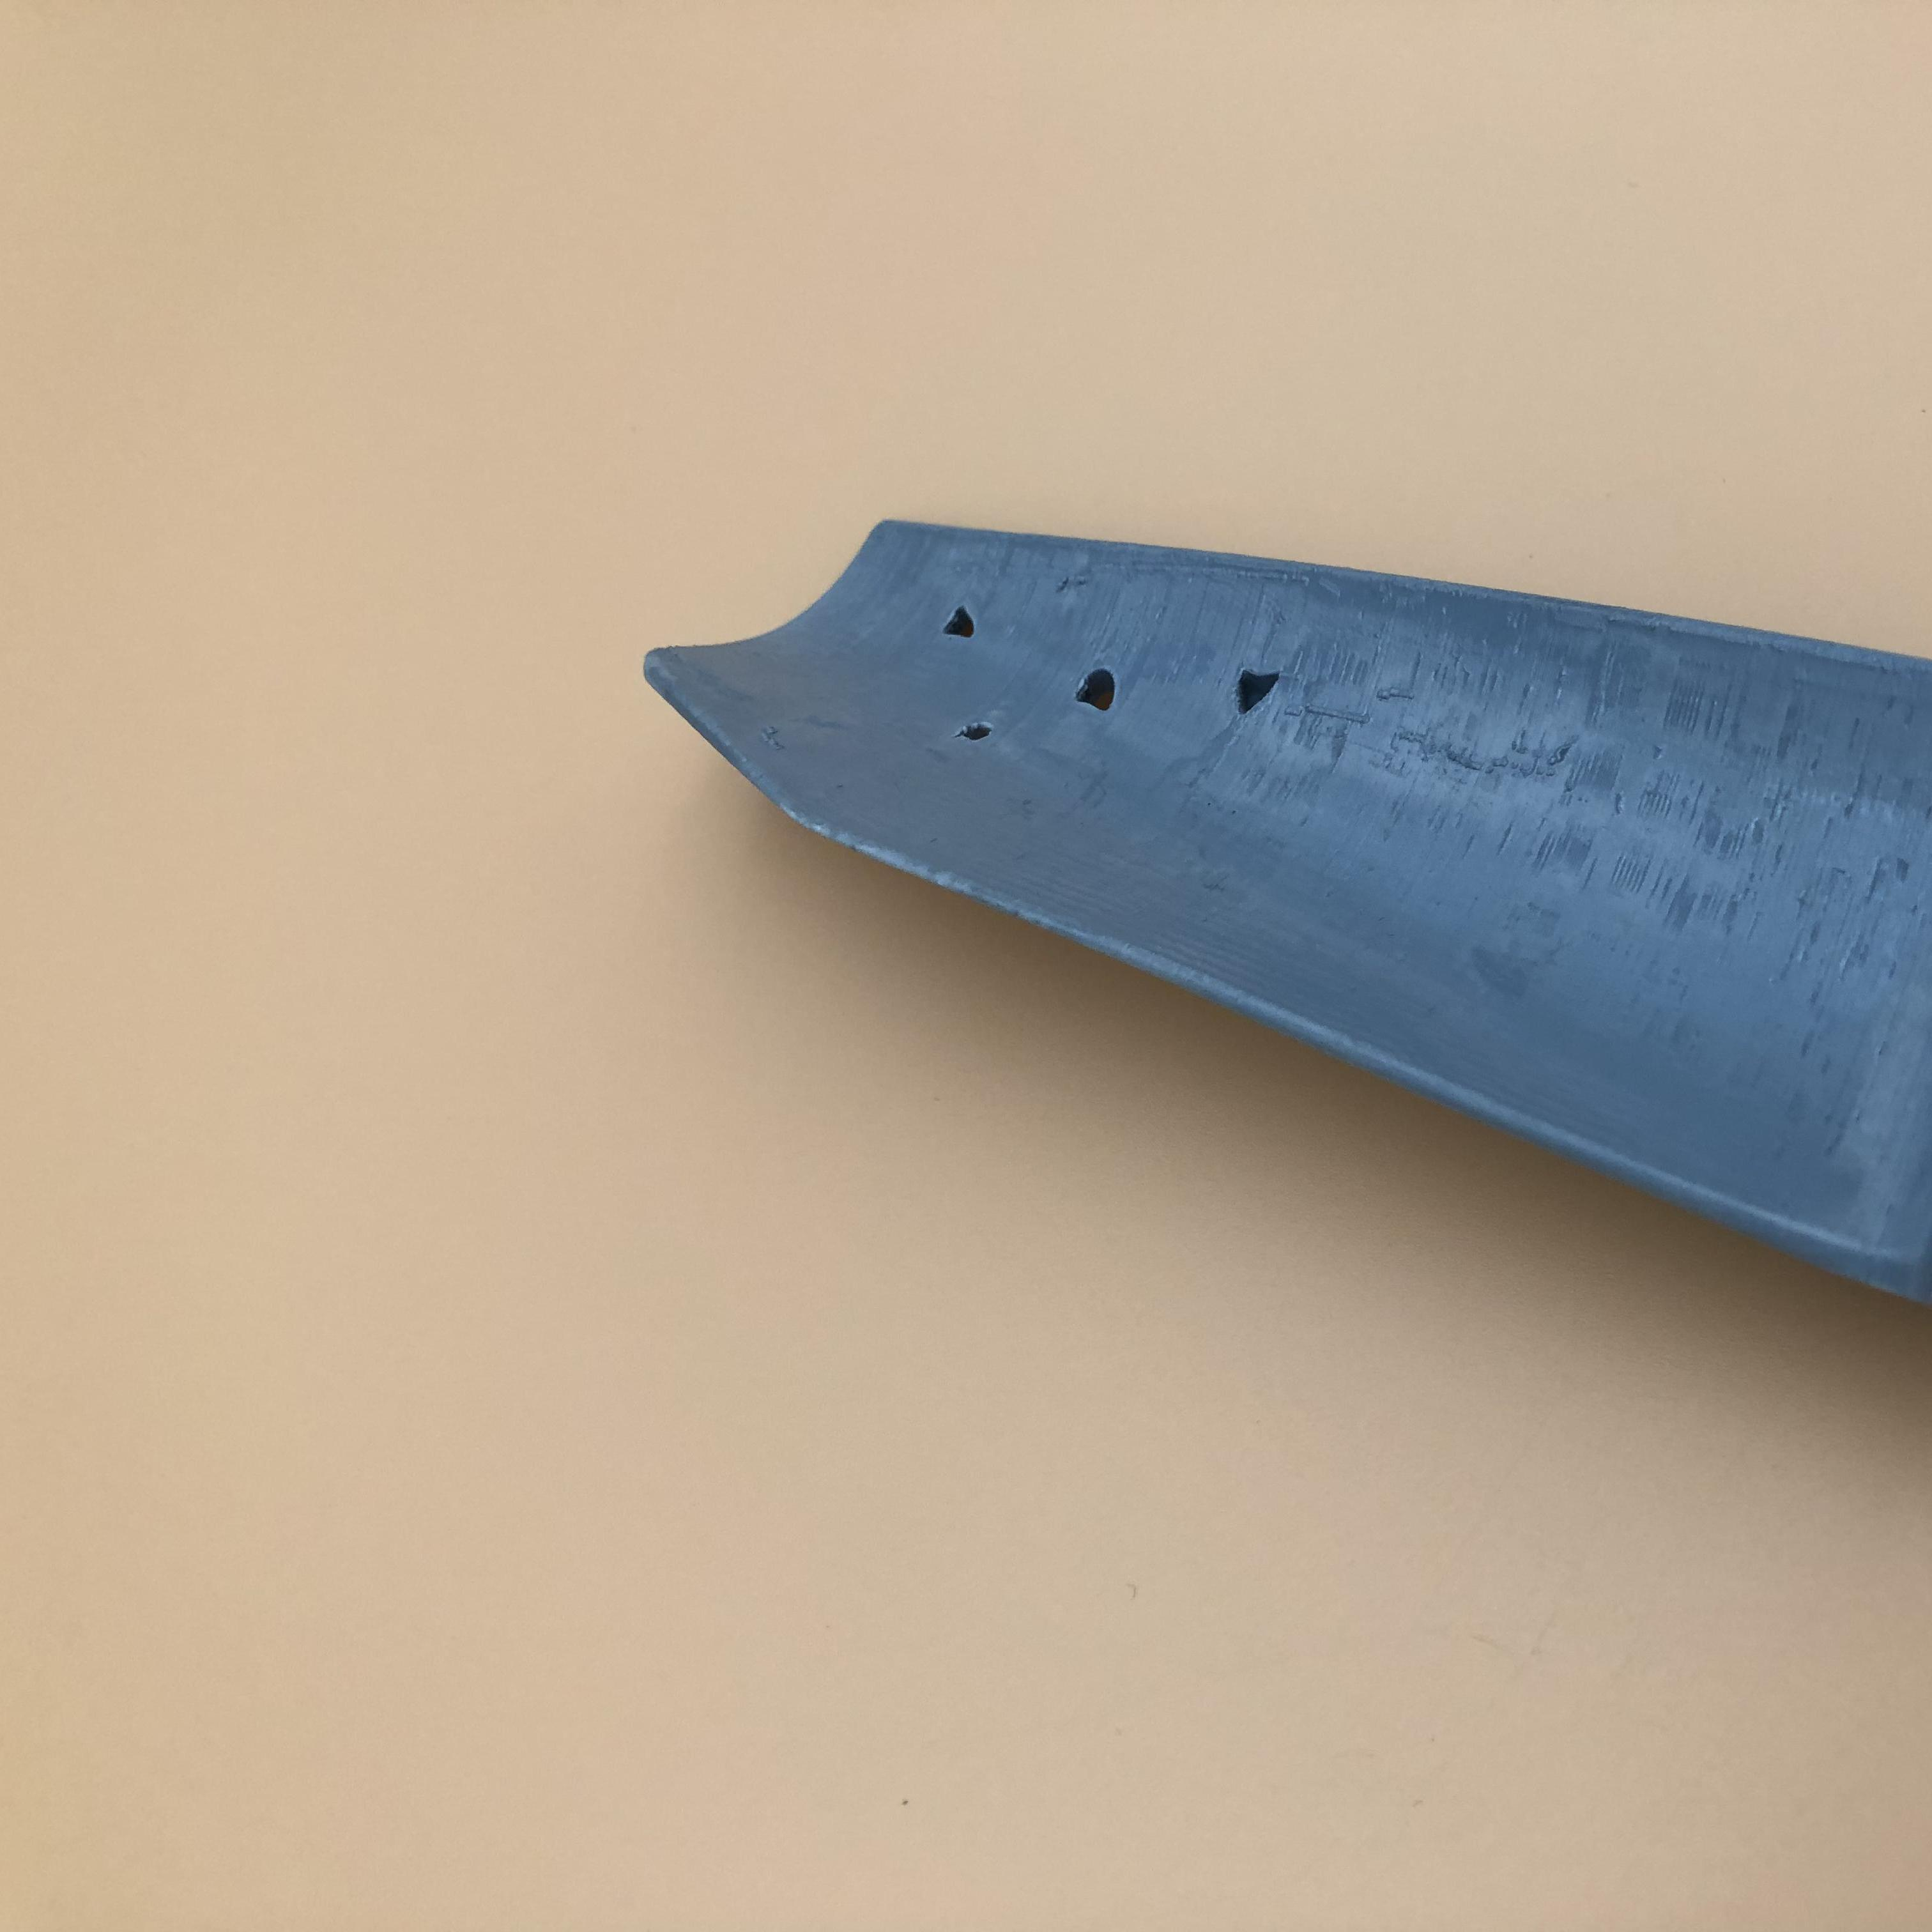breakdown: (931, 602, 1283, 731)
